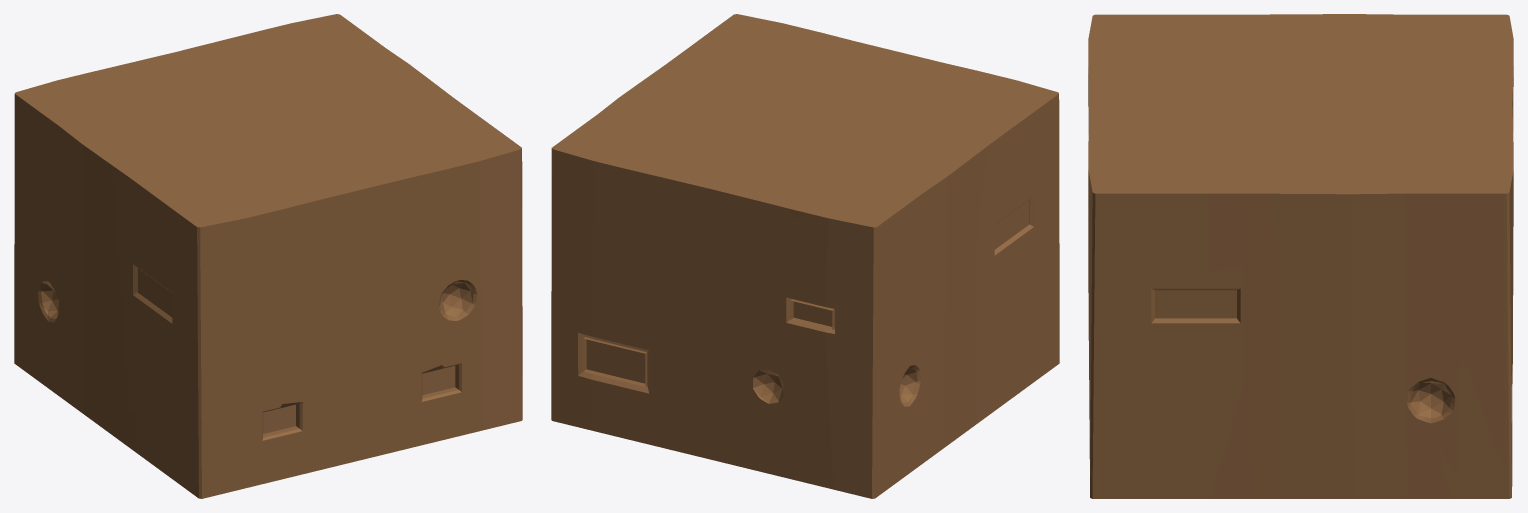
File: dirtBlock.fbx
3 views of the same model, side by side, from view 1: azimuth 30°, elevation 25°; view 2: azimuth 150°, elevation 25°; view 3: azimuth 270°, elevation 25° (orthographic). The views are drawn at different scales.
Visible parts, largest first — view 1: dirtBlock; view 2: dirtBlock; view 3: dirtBlock.
Part boxes in pixels (box(x1,y1,x2,y2)): dirtBlock: box(14, 14, 522, 498); dirtBlock: box(551, 14, 1059, 498); dirtBlock: box(1088, 14, 1513, 498).
Bounding box in the file's own units: 202 × 160 × 202.
